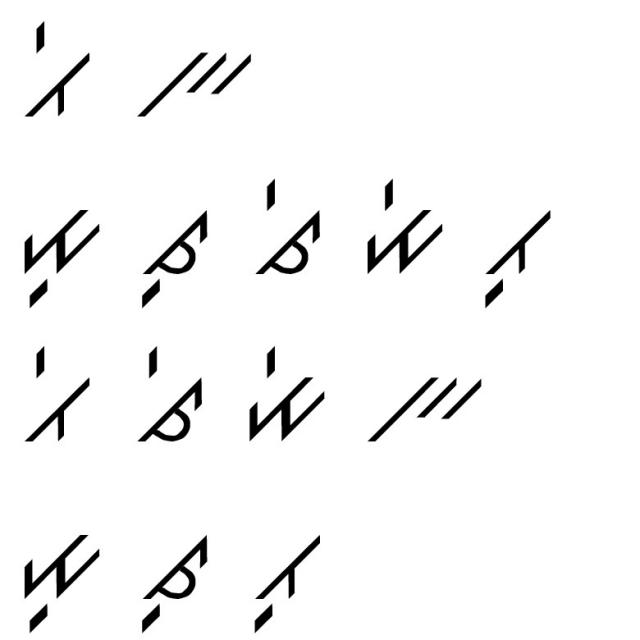be: (14, 336, 99, 450), (14, 10, 98, 123)
bu: (244, 519, 333, 634), (477, 196, 560, 311)
ce: (247, 174, 331, 288), (133, 344, 213, 450)
cu: (130, 524, 214, 637), (139, 206, 220, 312)
me: (236, 340, 336, 447), (354, 174, 452, 281)
mu: (16, 520, 108, 638), (12, 198, 105, 312)
